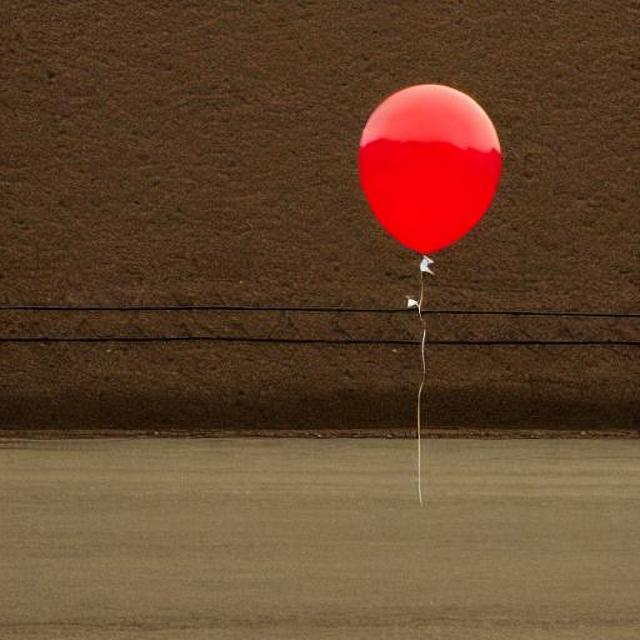balloon: (350, 82, 503, 272)
